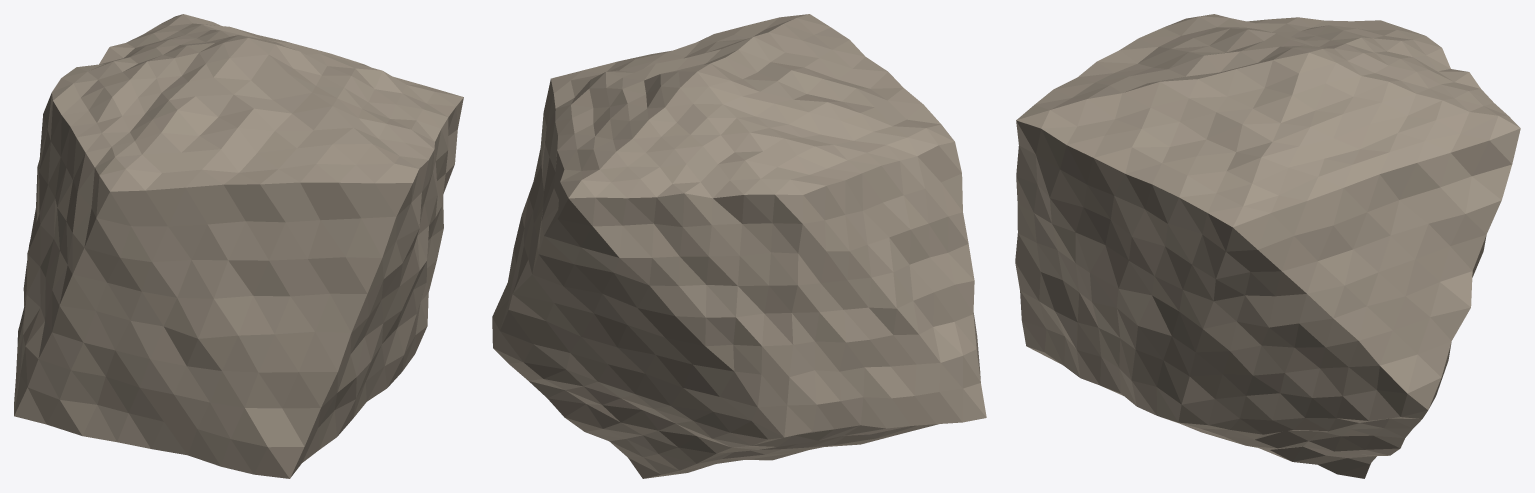
Rendered from SM_GorgeRock_A.fbx.
3 views of the same model, side by side, from view 1: azimuth 30°, elevation 25°; view 2: azimuth 150°, elevation 25°; view 3: azimuth 270°, elevation 25° (orthographic). The views are drawn at different scales.
Visible parts, largest first — view 1: SM_GorgeRock_A; view 2: SM_GorgeRock_A; view 3: SM_GorgeRock_A.
Part boxes in pixels (x1,y1,x2,y2): SM_GorgeRock_A: (14, 14, 463, 478); SM_GorgeRock_A: (492, 14, 986, 478); SM_GorgeRock_A: (1015, 14, 1520, 478).
Bounding box in the file's own units: 3.03 × 2.56 × 2.85.
